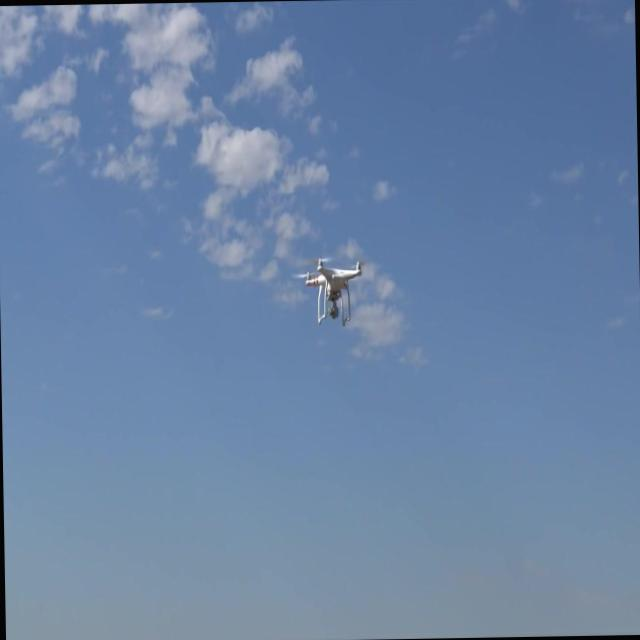drone: (296, 252, 364, 327)
